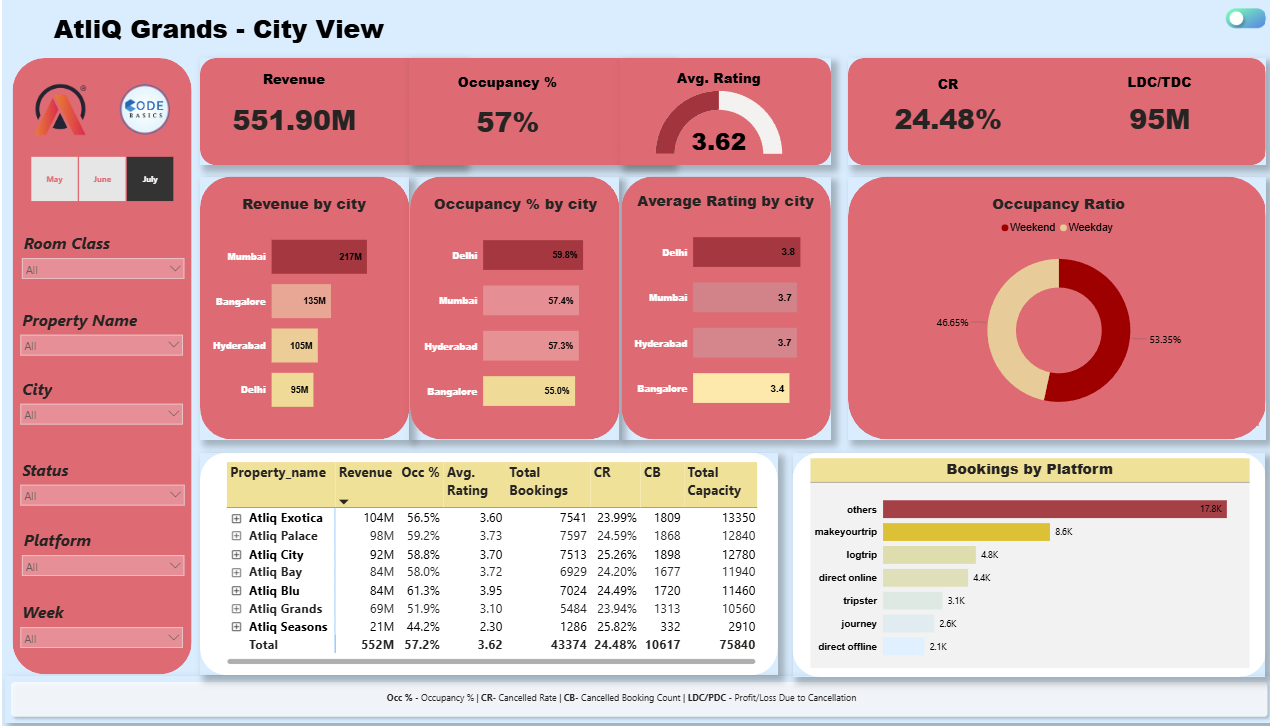

Layout of this report page (visuals, bound fields, positions):
{"tool":"powerbi","page":{"name":"City View","canvas":[1900,1100],"ordinal":1},"visuals":[{"type":"shape","box":[707.5,4.9,1192.5,80.1],"z":0,"group":"g1"},{"type":"shape","box":[5,1012.5,1895,70],"z":0},{"type":"image","box":[738.1,2.5,110,74.3],"z":1000,"group":"g1"},{"type":"textbox","box":[560,1030,730,35],"z":1000},{"type":"image","box":[960.6,2.5,110,74.3],"z":2000,"group":"g1"},{"type":"textbox","box":[22.5,12.5,602.5,65],"z":2000},{"type":"image","box":[1175.6,2.5,110,74.3],"z":3000,"group":"g1"},{"type":"shape","box":[295,90,392,160],"z":3000},{"type":"image","box":[1390.6,2.5,110,74.3],"z":4000,"group":"g1"},{"type":"card","fields":{"Values":["key_resources.Revenue"]},"box":[312.5,100,245,132.5],"z":4000},{"type":"image","box":[1605.6,2.5,110,74.3],"z":5000,"group":"g1"},{"type":"shape","box":[607.5,90,392,160],"z":5000},{"type":"actionButton","box":[1827.2,4.9,57,57.9],"z":6000,"group":"g1"},{"type":"card","fields":{"Values":["key_resources.Occupancy %"]},"box":[625,105,260,127.5],"z":6000},{"type":"shape","box":[922.5,90,315,160],"z":7000},{"type":"gauge","fields":{"Y":["key_resources.Average Rating"]},"box":[942.5,105,255,127.5],"z":8000},{"type":"shape","box":[295,677.5,862.5,332.5],"z":9000},{"type":"shape","box":[295,267.5,312.5,392.5],"z":10000},{"type":"clusteredBarChart","fields":{"Category":["dim_hotels.city"],"Y":["key_resources.Revenue"]},"box":[312.5,290,275,347.5],"z":11000},{"type":"pivotTable","fields":{"Rows":["dim_hotels.property_name","dim_hotels.property_id"],"Values":["key_resources.Revenue","key_resources.Occupancy %","key_resources.Average Rating","key_resources.Total Bookings","key_resources.CR","key_resources.Total Cancelled Bookings","key_resources.Total Capacity"]},"box":[315,687.5,827.5,312.5],"z":12000},{"type":"shape","box":[610,267.5,312.5,392.5],"z":13000},{"type":"clusteredBarChart","fields":{"Category":["dim_hotels.city"],"Y":["key_resources.Occupancy %"]},"box":[630,290,275,347.5],"z":14000},{"type":"shape","box":[925,267.5,312.5,392.5],"z":15000},{"type":"clusteredBarChart","fields":{"Category":["dim_hotels.city"],"Y":["key_resources.Average Rating"]},"box":[942.5,287.5,275,347.5],"z":16000},{"type":"shape","box":[1180,677.5,707.5,335],"z":17000},{"type":"clusteredBarChart","title":"Bookings by Platform","fields":{"Category":["fact_bookings.booking_platform"],"Y":["key_resources.Total Bookings"]},"box":[1207.5,687.5,655,312.5],"z":18000},{"type":"shape","box":[1262.5,267.5,625,392.5],"z":19000},{"type":"donutChart","title":"Occupancy Ratio","fields":{"Y":["key_resources.Occupancy %"],"Category":["dim_date.day type"]},"box":[1277.5,290,597.5,347.5],"z":20000},{"type":"shape","box":[1263,90,625,160],"z":21000},{"type":"card","fields":{"Values":["key_resources.CR"]},"box":[1290,100,245,132.5],"z":22000},{"type":"card","fields":{"Values":["key_resources.LDC"]},"box":[1595,105,267.5,127.5],"z":24000},{"type":"group","id":"g1","title":"Group 2","box":[707.5,2.5,1192.5,82.5],"z":25000},{"type":"shape","box":[15,90,267.5,920],"z":27000},{"type":"image","box":[42.5,120,90,90],"z":28000},{"type":"image","box":[167.5,120,90,90],"z":29000},{"type":"slicer","fields":{"Values":["dim_rooms.room_class"]},"box":[25,350,252.5,70],"z":30000},{"type":"slicer","fields":{"Values":["dim_hotels.property_name"]},"box":[22.5,462.5,252.5,70],"z":31000},{"type":"slicer","fields":{"Values":["dim_hotels.city"]},"box":[22.5,567.5,252.5,70],"z":32000},{"type":"slicer","fields":{"Values":["fact_bookings.booking_status"]},"box":[22.5,687.5,255,70],"z":33000},{"type":"slicer","fields":{"Values":["fact_bookings.booking_platform"]},"box":[25,792.5,252.5,70],"z":34000},{"type":"slicer","fields":{"Values":["dim_date.weekday"]},"box":[22.5,900,252.5,70],"z":35000},{"type":"slicer","fields":{"Values":["dim_date.mmm yy.Variation.Date Hierarchy.Month"]},"box":[22.5,235,252.5,70],"z":36000}]}

Visuals, with their boxes in screenshot pixels (x1, y1, x2, y2), scaled from the page's 1900x1100 canvas onto the 1270x726 screenshot:
shape: rect(473, 3, 1269, 56)
shape: rect(3, 668, 1269, 714)
image: rect(493, 2, 567, 51)
textbox: rect(374, 680, 862, 703)
image: rect(642, 2, 716, 51)
textbox: rect(15, 8, 418, 51)
image: rect(786, 2, 859, 51)
shape: rect(197, 59, 459, 165)
image: rect(930, 2, 1003, 51)
card - key_resources.Revenue: rect(209, 66, 373, 153)
image: rect(1073, 2, 1147, 51)
shape: rect(406, 59, 668, 165)
actionButton: rect(1221, 3, 1259, 41)
card - key_resources.Occupancy %: rect(418, 69, 592, 153)
shape: rect(617, 59, 827, 165)
gauge - key_resources.Average Rating: rect(630, 69, 800, 153)
shape: rect(197, 447, 774, 667)
shape: rect(197, 177, 406, 436)
clusteredBarChart - dim_hotels.city x key_resources.Revenue: rect(209, 191, 393, 421)
pivotTable - dim_hotels.property_name x dim_hotels.property_id: rect(211, 454, 764, 660)
shape: rect(408, 177, 617, 436)
clusteredBarChart - dim_hotels.city x key_resources.Occupancy %: rect(421, 191, 605, 421)
shape: rect(618, 177, 827, 436)
clusteredBarChart - dim_hotels.city x key_resources.Average Rating: rect(630, 190, 814, 419)
shape: rect(789, 447, 1262, 668)
"Bookings by Platform" clusteredBarChart: rect(807, 454, 1245, 660)
shape: rect(844, 177, 1262, 436)
"Occupancy Ratio" donutChart: rect(854, 191, 1253, 421)
shape: rect(844, 59, 1262, 165)
card - key_resources.CR: rect(862, 66, 1026, 153)
card - key_resources.LDC: rect(1066, 69, 1245, 153)
"Group 2" group: rect(473, 2, 1269, 56)
shape: rect(10, 59, 189, 667)
image: rect(28, 79, 89, 139)
image: rect(112, 79, 172, 139)
slicer - dim_rooms.room_class: rect(17, 231, 185, 277)
slicer - dim_hotels.property_name: rect(15, 305, 184, 351)
slicer - dim_hotels.city: rect(15, 375, 184, 421)
slicer - fact_bookings.booking_status: rect(15, 454, 185, 500)
slicer - fact_bookings.booking_platform: rect(17, 523, 185, 569)
slicer - dim_date.weekday: rect(15, 594, 184, 640)
slicer - dim_date.mmm yy.Variation.Date Hierarchy.Month: rect(15, 155, 184, 201)
